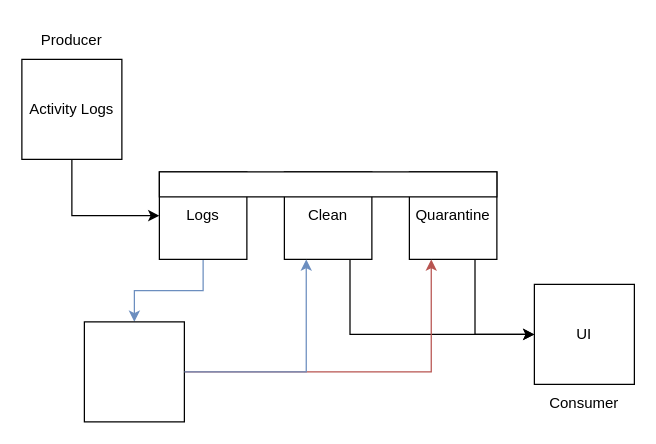
The diagram is 656 pixels wide and 444 high, and some of its shapes have lost their labels. Each missing label, with the centre of its shape:
"Firewall" belongs at point 133,371.
"Kafka" belongs at point 327,184.
